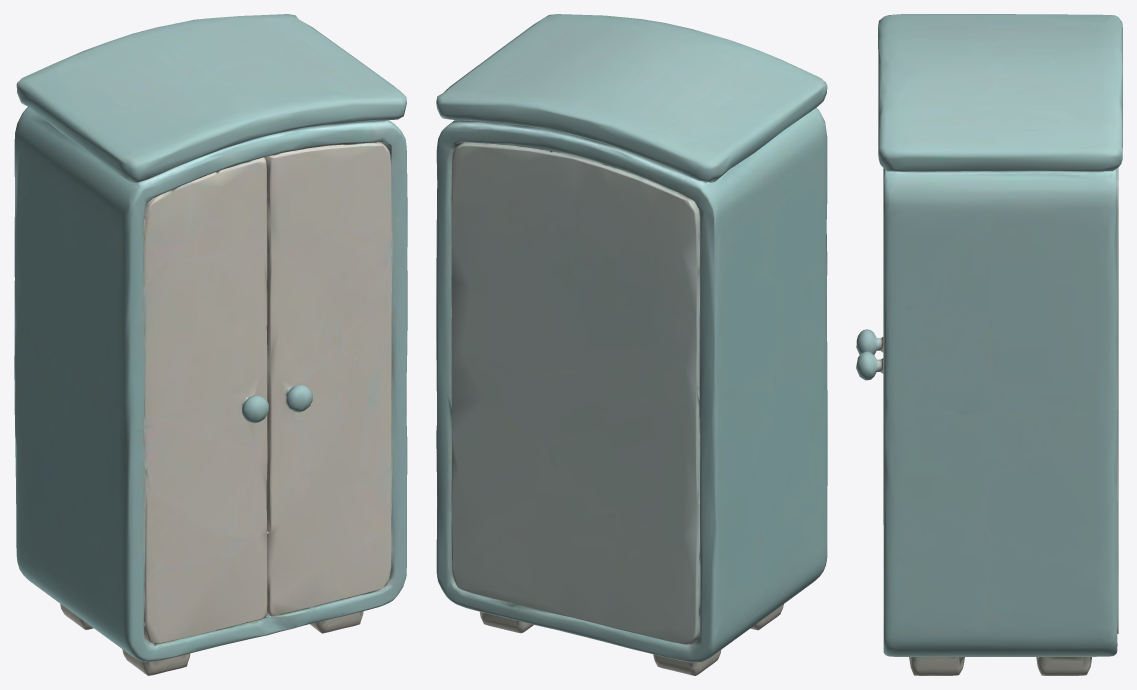
File: bedroom_wardrobe.glb
3 views of the same model, side by side, from view 1: azimuth 30°, elevation 25°; view 2: azimuth 150°, elevation 25°; view 3: azimuth 270°, elevation 25° (orthographic).
Parts seen in each view (by area): view 1: tripo_node_fd947148-0a7c-4c55-99d8-562b6776ef62; view 2: tripo_node_fd947148-0a7c-4c55-99d8-562b6776ef62; view 3: tripo_node_fd947148-0a7c-4c55-99d8-562b6776ef62.
Part boxes in pixels (x1=…): tripo_node_fd947148-0a7c-4c55-99d8-562b6776ef62: x1=14, y1=14, x2=407, y2=675; tripo_node_fd947148-0a7c-4c55-99d8-562b6776ef62: x1=436, y1=14, x2=827, y2=675; tripo_node_fd947148-0a7c-4c55-99d8-562b6776ef62: x1=856, y1=14, x2=1122, y2=675.
Size of the model in its own units: 1.02 by 1.9 by 0.8177.
Materials: 1 (1 with a texture image).
